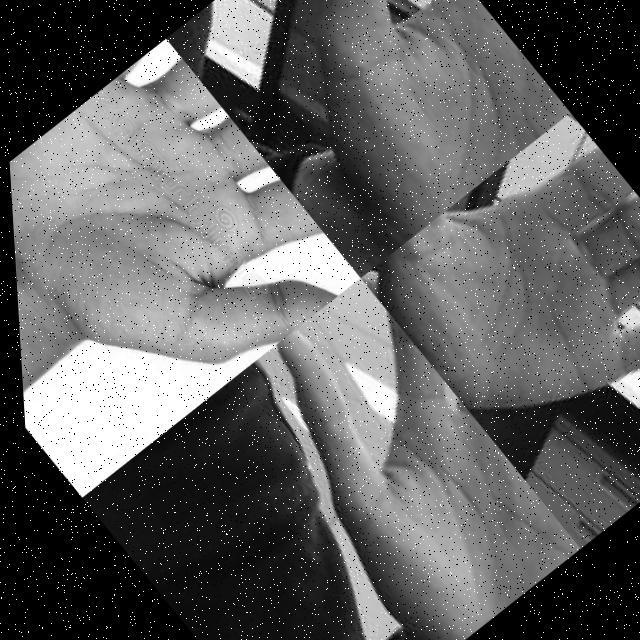no-gloves: (1, 37, 364, 441), (213, 277, 578, 640), (349, 111, 640, 497), (197, 0, 575, 251)
